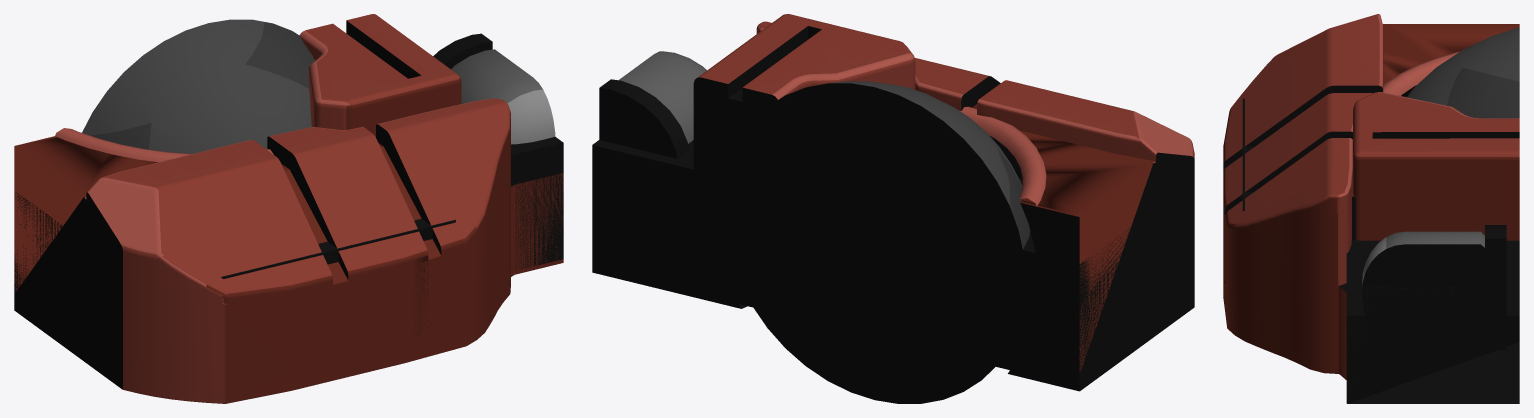
The model's file is deli_boss_43.glb.
3 views of the same model, side by side, from view 1: azimuth 30°, elevation 25°; view 2: azimuth 150°, elevation 25°; view 3: azimuth 270°, elevation 25° (orthographic). The views are drawn at different scales.
Visible parts, largest first — view 1: deli_boss_43; view 2: deli_boss_43; view 3: deli_boss_43.
Part boxes in pixels (x1,y1,x2,y2): deli_boss_43: (14,14,563,403); deli_boss_43: (592,14,1194,403); deli_boss_43: (1223,14,1519,403).
Size of the model in its own units: 24 by 14.72 by 13.7.
